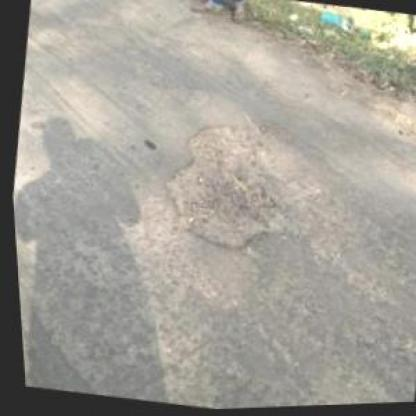pothole: (147, 111, 305, 265), (169, 83, 211, 115)
